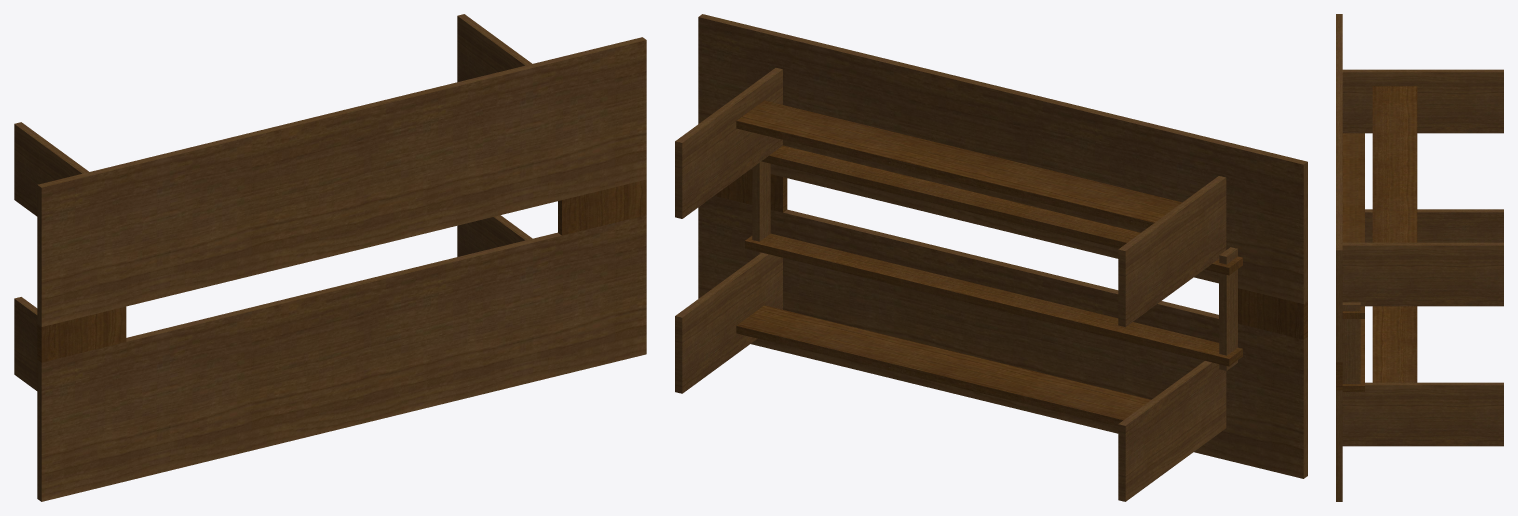
File: tbl014.obj
3 renders of one model, left to right at view 1: azimuth 30°, elevation 25°; view 2: azimuth 150°, elevation 25°; view 3: azimuth 270°, elevation 25°, orthographic. The views are drawn at different scales.
Parts seen in each view (by area): view 1: Rectangl12, Rectangl13, Rectangle5, Rectangl10, Rectangl11, Rectangle0, Rectangle8, Rectangle7; view 2: Rectangl12, Rectangl13, Rectangle4, Rectangle9, Rectangle3, Rectangle5, Rectangle8, Rectangle2, Rectangle7, Rectangle0, Rectangl10, Rectangle1 (+2 smaller); view 3: Rectangle0, Rectangle7, Rectangle5, Rectangle4, Rectangle9, Rectangle8, Rectangle2, Rectangl12, Rectangle6, Rectangl13, Rectangle3, Rectangl11.
Part boxes in pixels (<box>): Rectangl12: <box>37,37,646,326</box>; Rectangl13: <box>37,215,646,501</box>; Rectangle5: <box>14,122,88,216</box>; Rectangl10: <box>37,306,126,362</box>; Rectangl11: <box>558,179,646,235</box>; Rectangle0: <box>457,14,532,82</box>; Rectangle8: <box>14,297,37,390</box>; Rectangle7: <box>457,215,532,256</box>; Rectangl12: <box>698,14,1307,303</box>; Rectangl13: <box>698,196,1307,478</box>; Rectangle4: <box>736,100,1181,228</box>; Rectangle9: <box>736,305,1151,426</box>; Rectangle3: <box>745,233,1242,366</box>; Rectangle5: <box>1118,176,1226,327</box>; Rectangle8: <box>1118,361,1226,501</box>; Rectangle2: <box>761,145,1242,275</box>; Rectangle7: <box>675,252,782,393</box>; Rectangle0: <box>675,68,782,218</box>; Rectangl10: <box>1219,284,1307,339</box>; Rectangle1: <box>1219,247,1237,370</box>; Rectangle0: <box>1342,242,1503,306</box>; Rectangle7: <box>1342,382,1503,446</box>; Rectangle5: <box>1342,69,1503,133</box>; Rectangle4: <box>1372,86,1417,242</box>; Rectangle9: <box>1372,306,1417,382</box>; Rectangle8: <box>1365,209,1503,242</box>; Rectangle2: <box>1342,133,1364,318</box>; Rectangl12: <box>1336,14,1342,361</box>; Rectangle6: <box>1342,302,1360,396</box>; Rectangl13: <box>1336,390,1342,501</box>; Rectangle3: <box>1342,319,1364,391</box>; Rectangl11: <box>1336,362,1342,390</box>.
Size of the model in its own units: 2500 by 1240 by 750.
2 materials, 2 textured.
